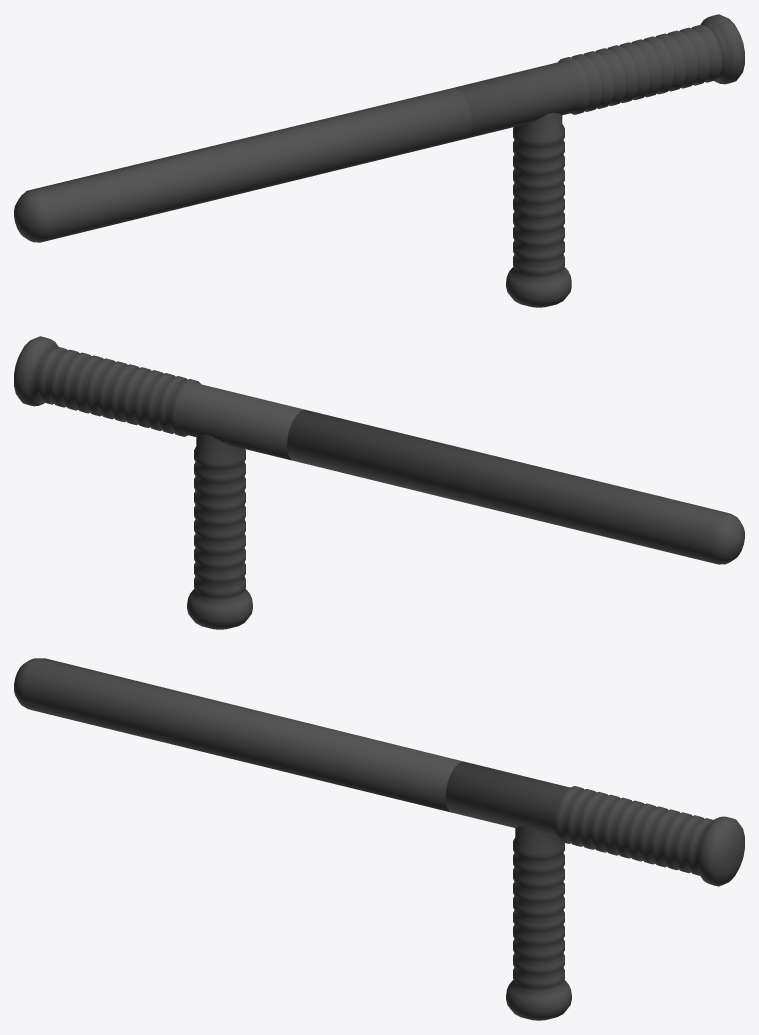
Rendered from Katana37.glb.
3 renders of one model, top to bottom at view 1: azimuth 30°, elevation 25°; view 2: azimuth 150°, elevation 25°; view 3: azimuth 330°, elevation 25°, orthographic.
Visible parts, largest first — view 1: Retopo_Cube.002, Retopo_Cube.001; view 2: Retopo_Cube.002, Retopo_Cube.001; view 3: Retopo_Cube.002, Retopo_Cube.001.
Part boxes in pixels (x1,y1,x2,y2): Retopo_Cube.002: (454,14,744,307); Retopo_Cube.001: (14,87,471,242); Retopo_Cube.002: (14,336,304,629); Retopo_Cube.001: (287,409,744,564); Retopo_Cube.002: (445,761,744,1020); Retopo_Cube.001: (14,658,462,812).
Size of the model in its own units: 0.7689 by 0.2468 by 0.0644.
2 materials, 2 textured.
